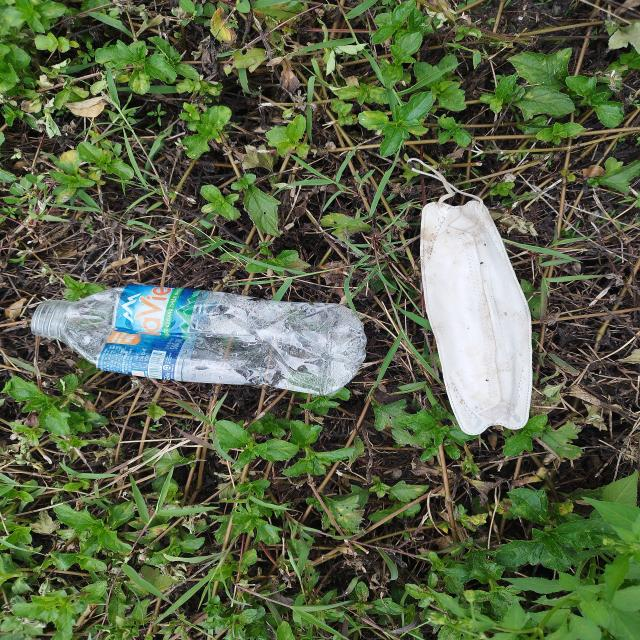bottle: (33, 286, 366, 396)
mask: (406, 158, 532, 436)
